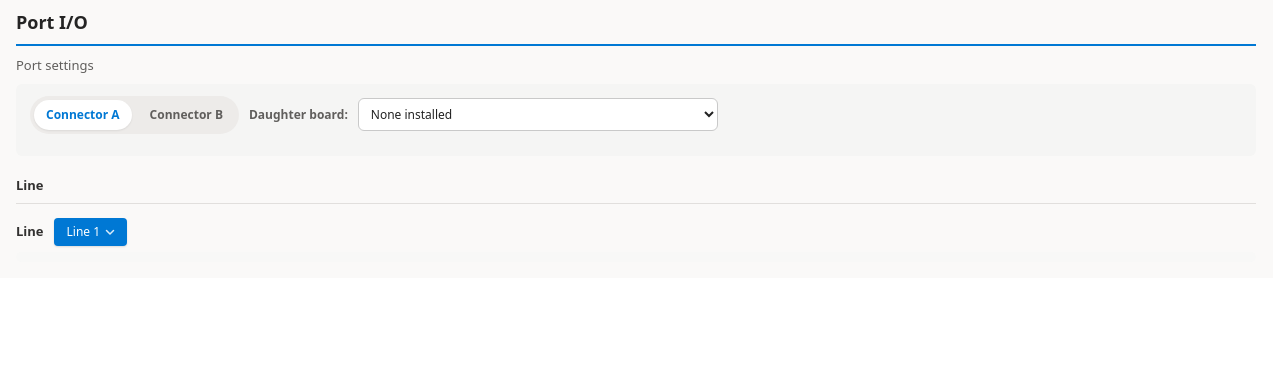
Test case: SegmentView connector selectors › filters replicated line pills to only lines governed by the active connector
Click the button "Line 1": click(90, 232) [54,218,127,246]
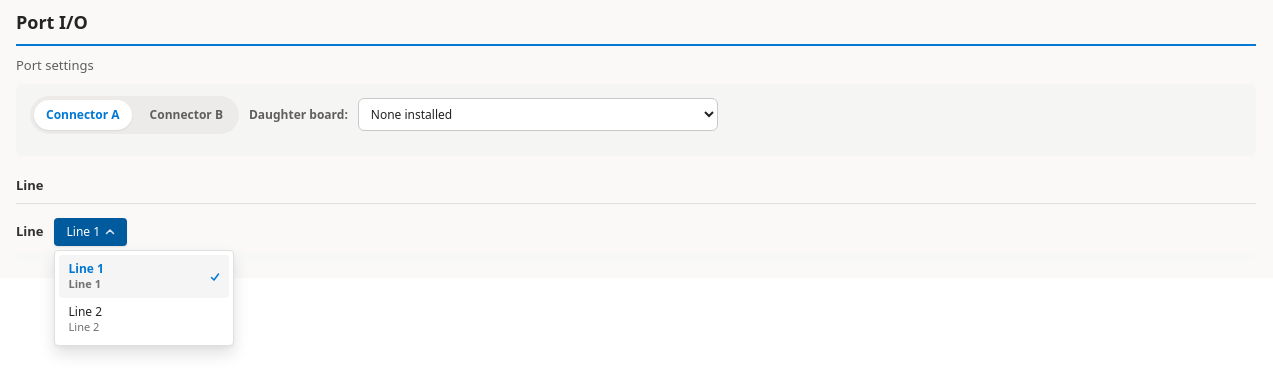
Expected: the option "Line 9 Line 9" is not shown
Now the option "Line 1 Line 1" is shown, box [58,255,228,298]
Now the option "Line 2 Line 2" is shown, box [58,298,228,341]
Click the tab "Connector B": click(186, 114) [138,100,235,130]
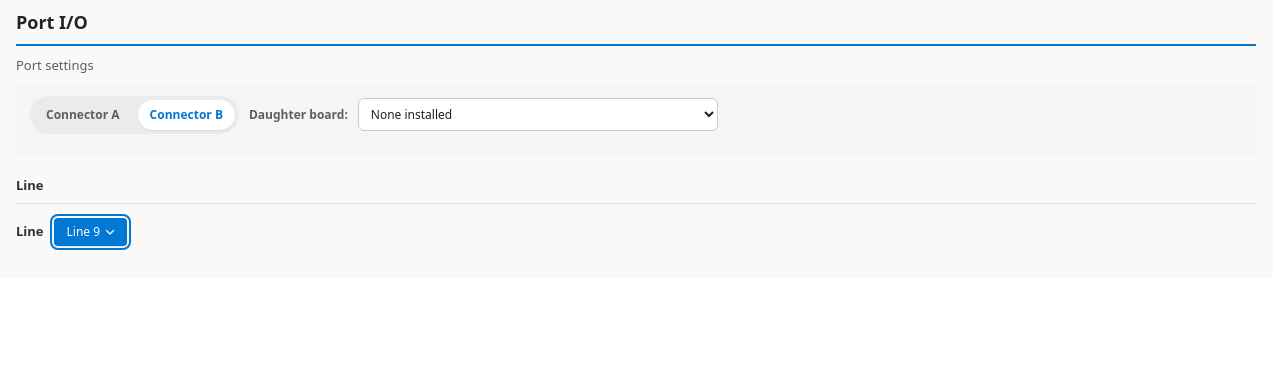
Click the button "Line 9": click(90, 232) [54,218,127,246]
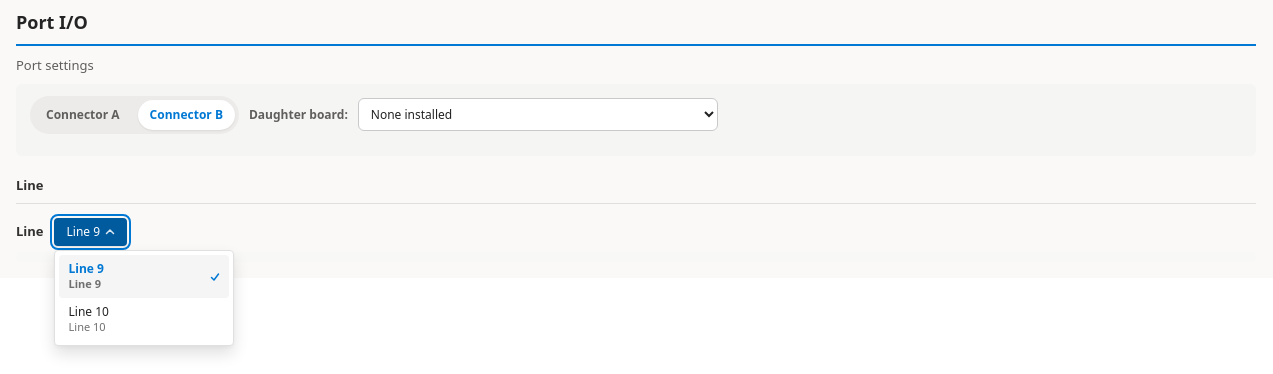
Expected: the option "Line 1 Line 1" is not shown
Now the option "Line 9 Line 9" is shown, box [58,255,228,298]
Now the option "Line 10 Line 10" is shown, box [58,298,228,341]
